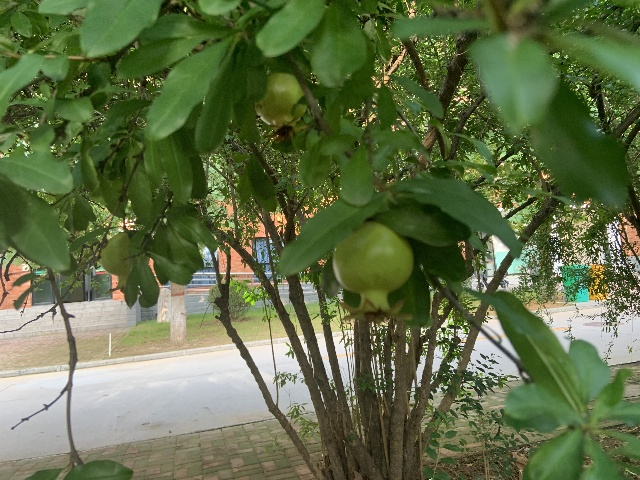mid-growth: (332, 221, 415, 327), (254, 73, 310, 143)
